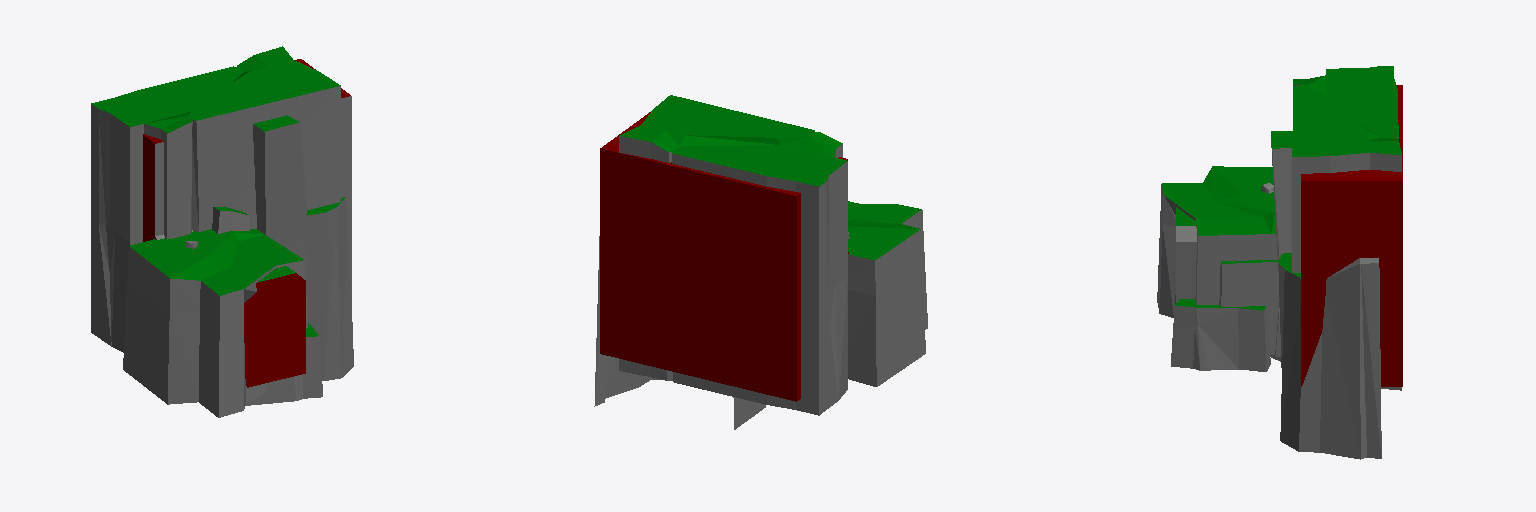
The model's file is cliff_1101_1100.obj.
The picture shows the model from 3 angles: view 1: azimuth 30°, elevation 25°; view 2: azimuth 150°, elevation 25°; view 3: azimuth 270°, elevation 25°; orthographic projection.
Parts seen in each view (by area): view 1: tile_1101_1100; view 2: tile_1101_1100; view 3: tile_1101_1100.
Boxes of the visible parts, x1=… form: tile_1101_1100: x1=91, y1=46, x2=353, y2=417; tile_1101_1100: x1=594, y1=95, x2=927, y2=429; tile_1101_1100: x1=1157, y1=66, x2=1402, y2=459.
Size of the model in its own units: 2.51 by 2.79 by 2.17.